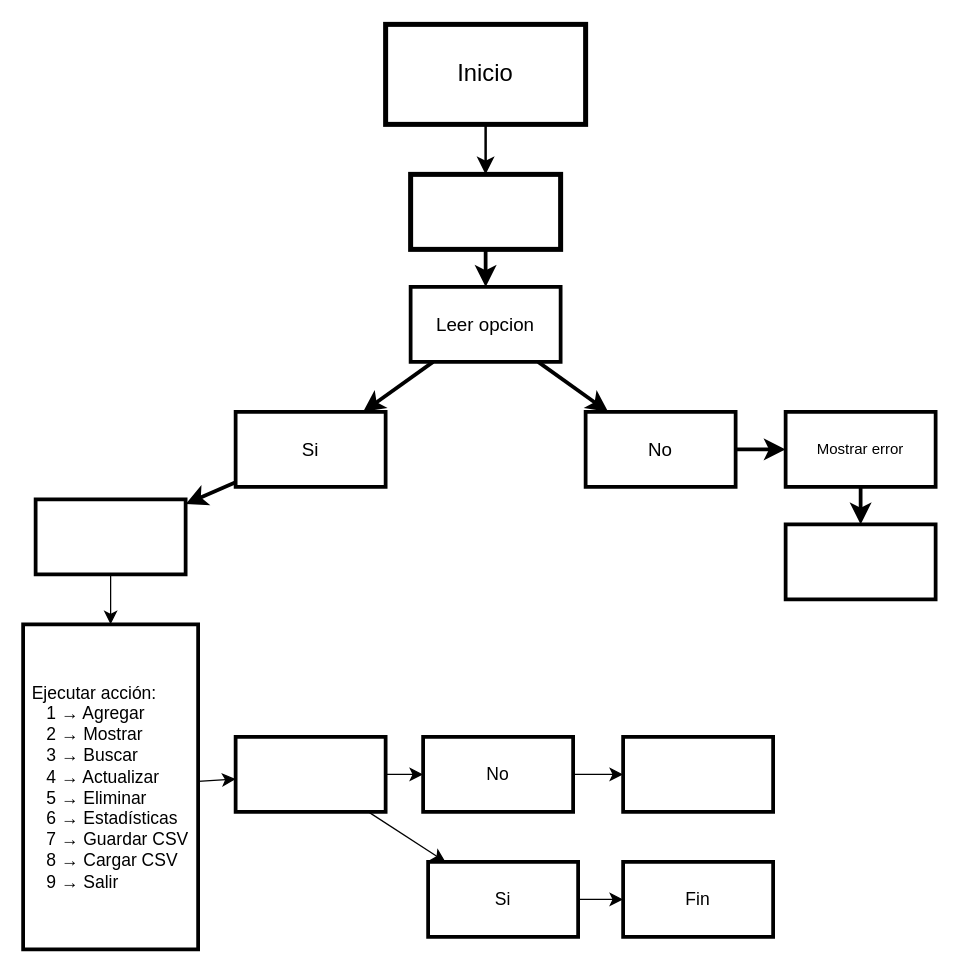
This 959x973 diagram has some shape labels left out. Each missing label, with the centre of its shape:
"Ejecutar acción:" goes at (x=110, y=536).
"Mostrar menu" goes at (x=485, y=211).
"Salir" goes at (x=310, y=773).
"Volver al menú (se repite)" goes at (x=697, y=773).
"Vuelve al menu" goes at (x=860, y=561).
